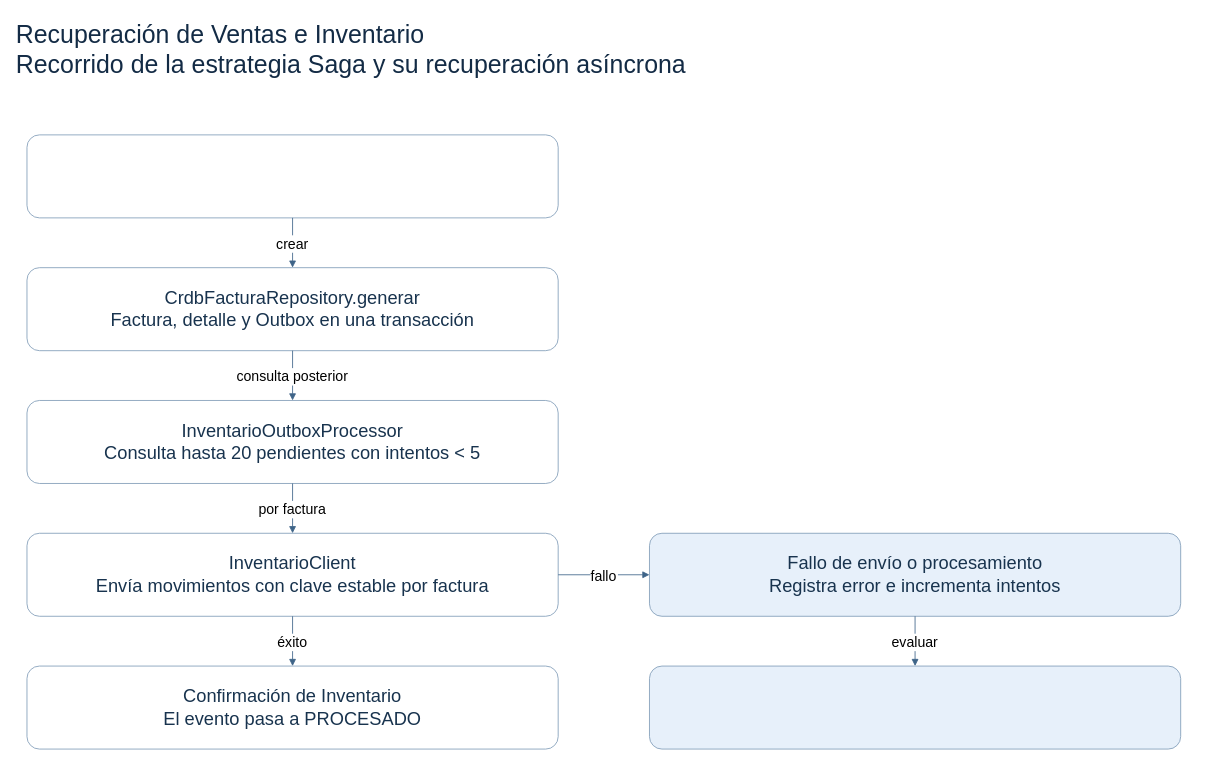
Image size: 1207x764. Some labels were removed from this diagram. Here are the shapes that lost their labels. From the top down, the centre of each, then its label:
At [292,176]: "FacturaService.generar Solicita persistir la factura".
At [915,707]: "Si intentos llega a 5: FALLIDO Si no: queda PENDIENTE para otra consulta".
